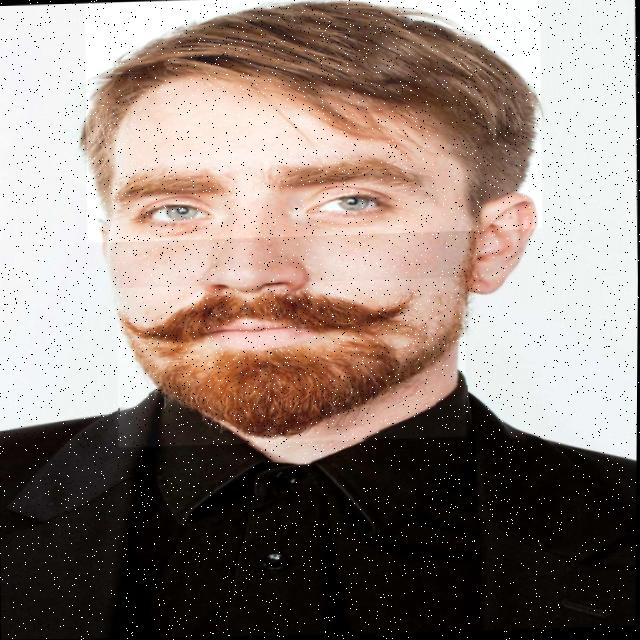beard: (117, 283, 465, 443)
hair: (86, 0, 540, 233)
